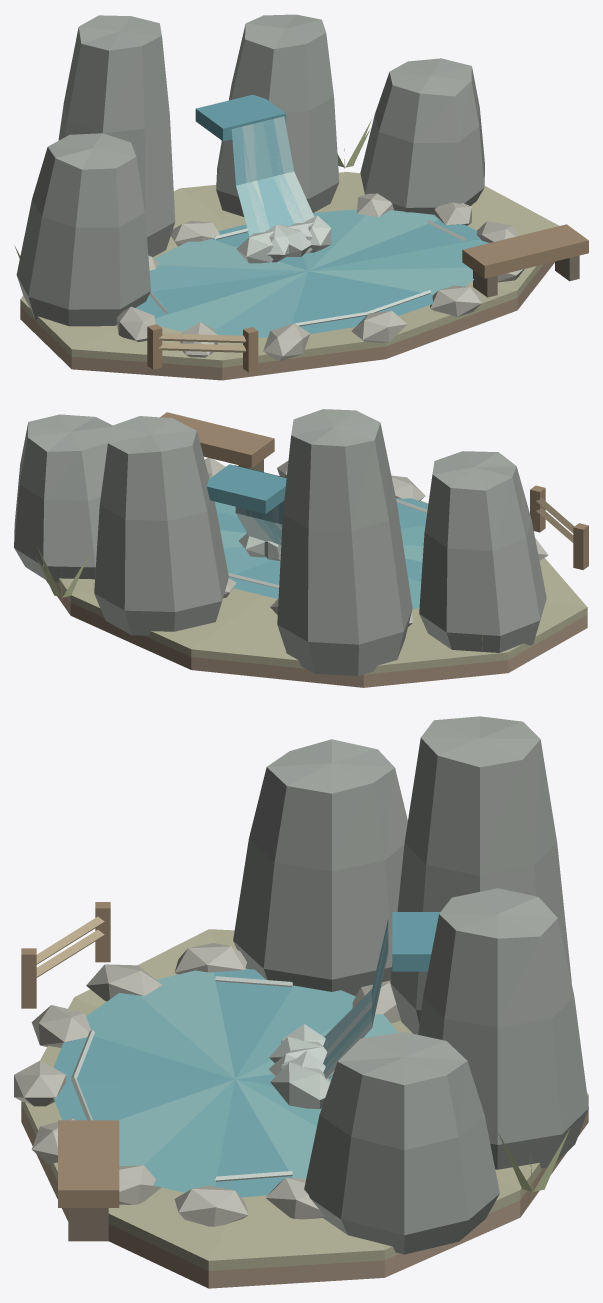
The picture shows the model from 3 angles, top to bottom: view 1: azimuth 30°, elevation 25°; view 2: azimuth 150°, elevation 25°; view 3: azimuth 270°, elevation 25°; orthographic projection. The views are drawn at different scales.
Parts seen in each view (by area): view 1: S14; view 2: S14; view 3: S14.
Part boxes in pixels (left/top/right/bottom): S14: left=14, top=14, right=588, bottom=380; S14: left=14, top=409, right=588, bottom=687; S14: left=14, top=716, right=588, bottom=1288.
Bounding box in the file's own units: 4.87 × 2.18 × 3.57.
